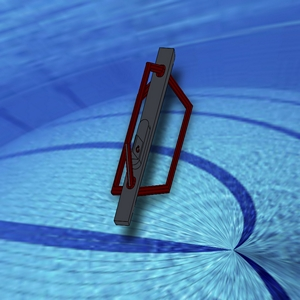submarine: (96, 33, 208, 249)
